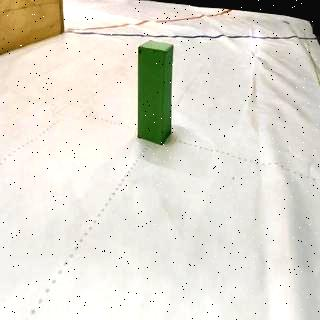greenbox: (137, 38, 174, 146)
